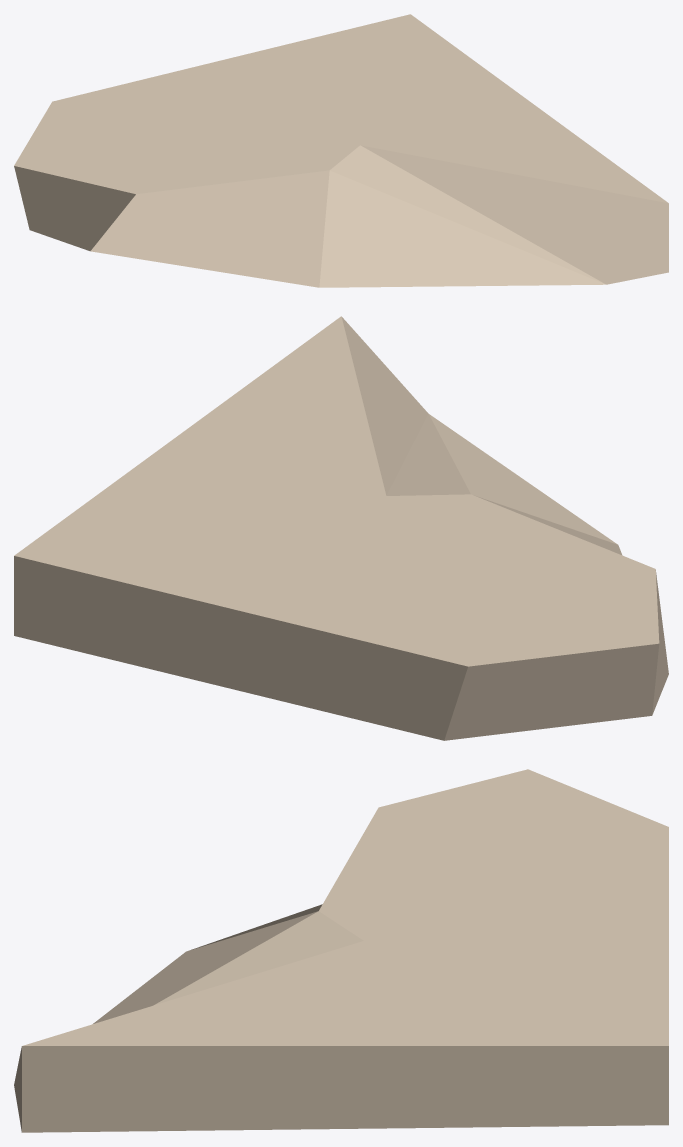
The model's file is Broken_Ceiling_002.fbx.
3 views of the same model, one above another, from view 1: azimuth 30°, elevation 25°; view 2: azimuth 150°, elevation 25°; view 3: azimuth 270°, elevation 25° (orthographic). The views are drawn at different scales.
Visible parts, largest first — view 1: Broken_Ceiling_002; view 2: Broken_Ceiling_002; view 3: Broken_Ceiling_002.
Boxes of the visible parts, <box> form: Broken_Ceiling_002: <box>14,14,668,287</box>; Broken_Ceiling_002: <box>14,316,668,740</box>; Broken_Ceiling_002: <box>14,769,668,1132</box>.
Size of the model in its own units: 3 by 0.438 by 3.
